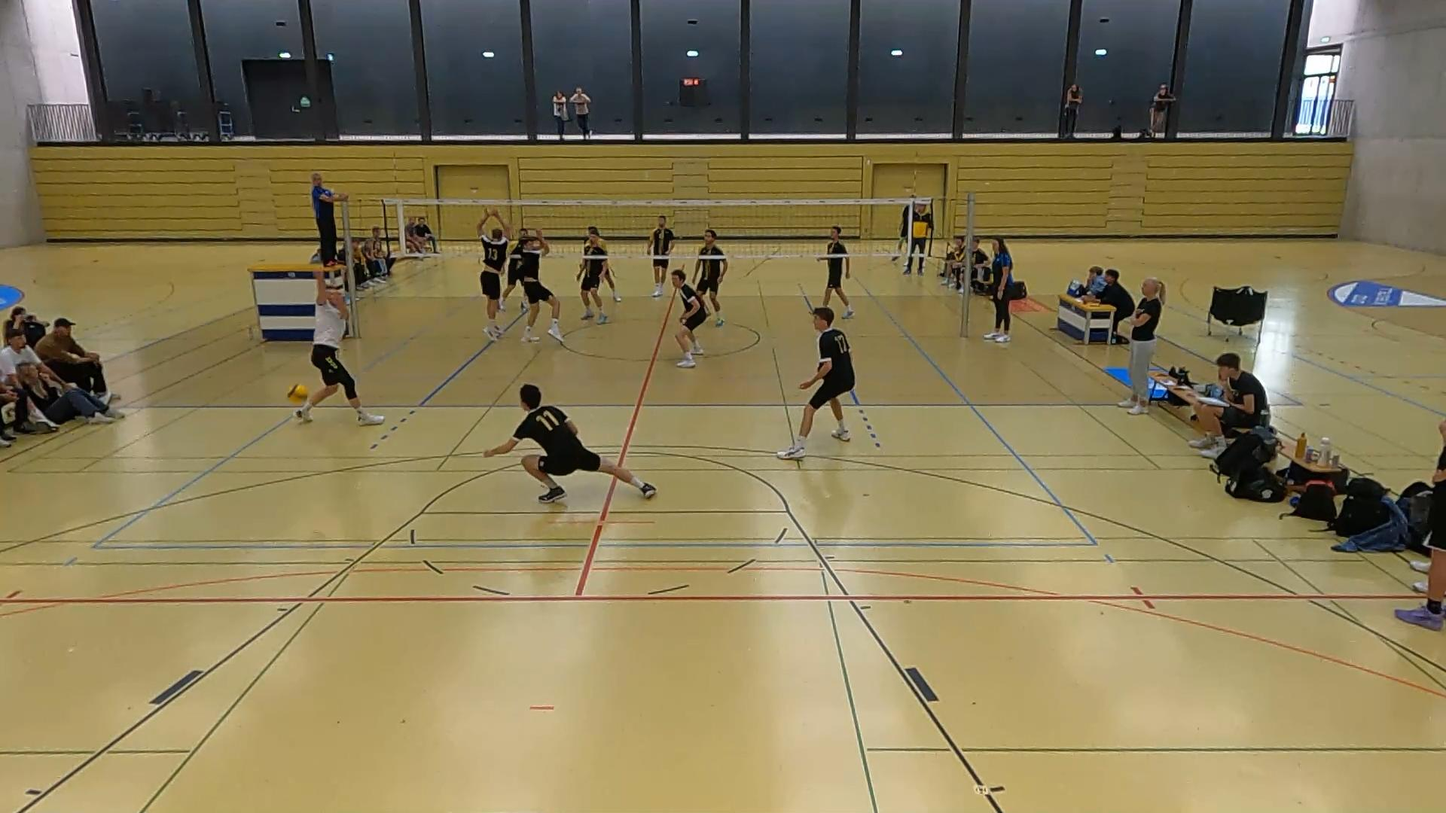difesa: (274, 258, 391, 435)
